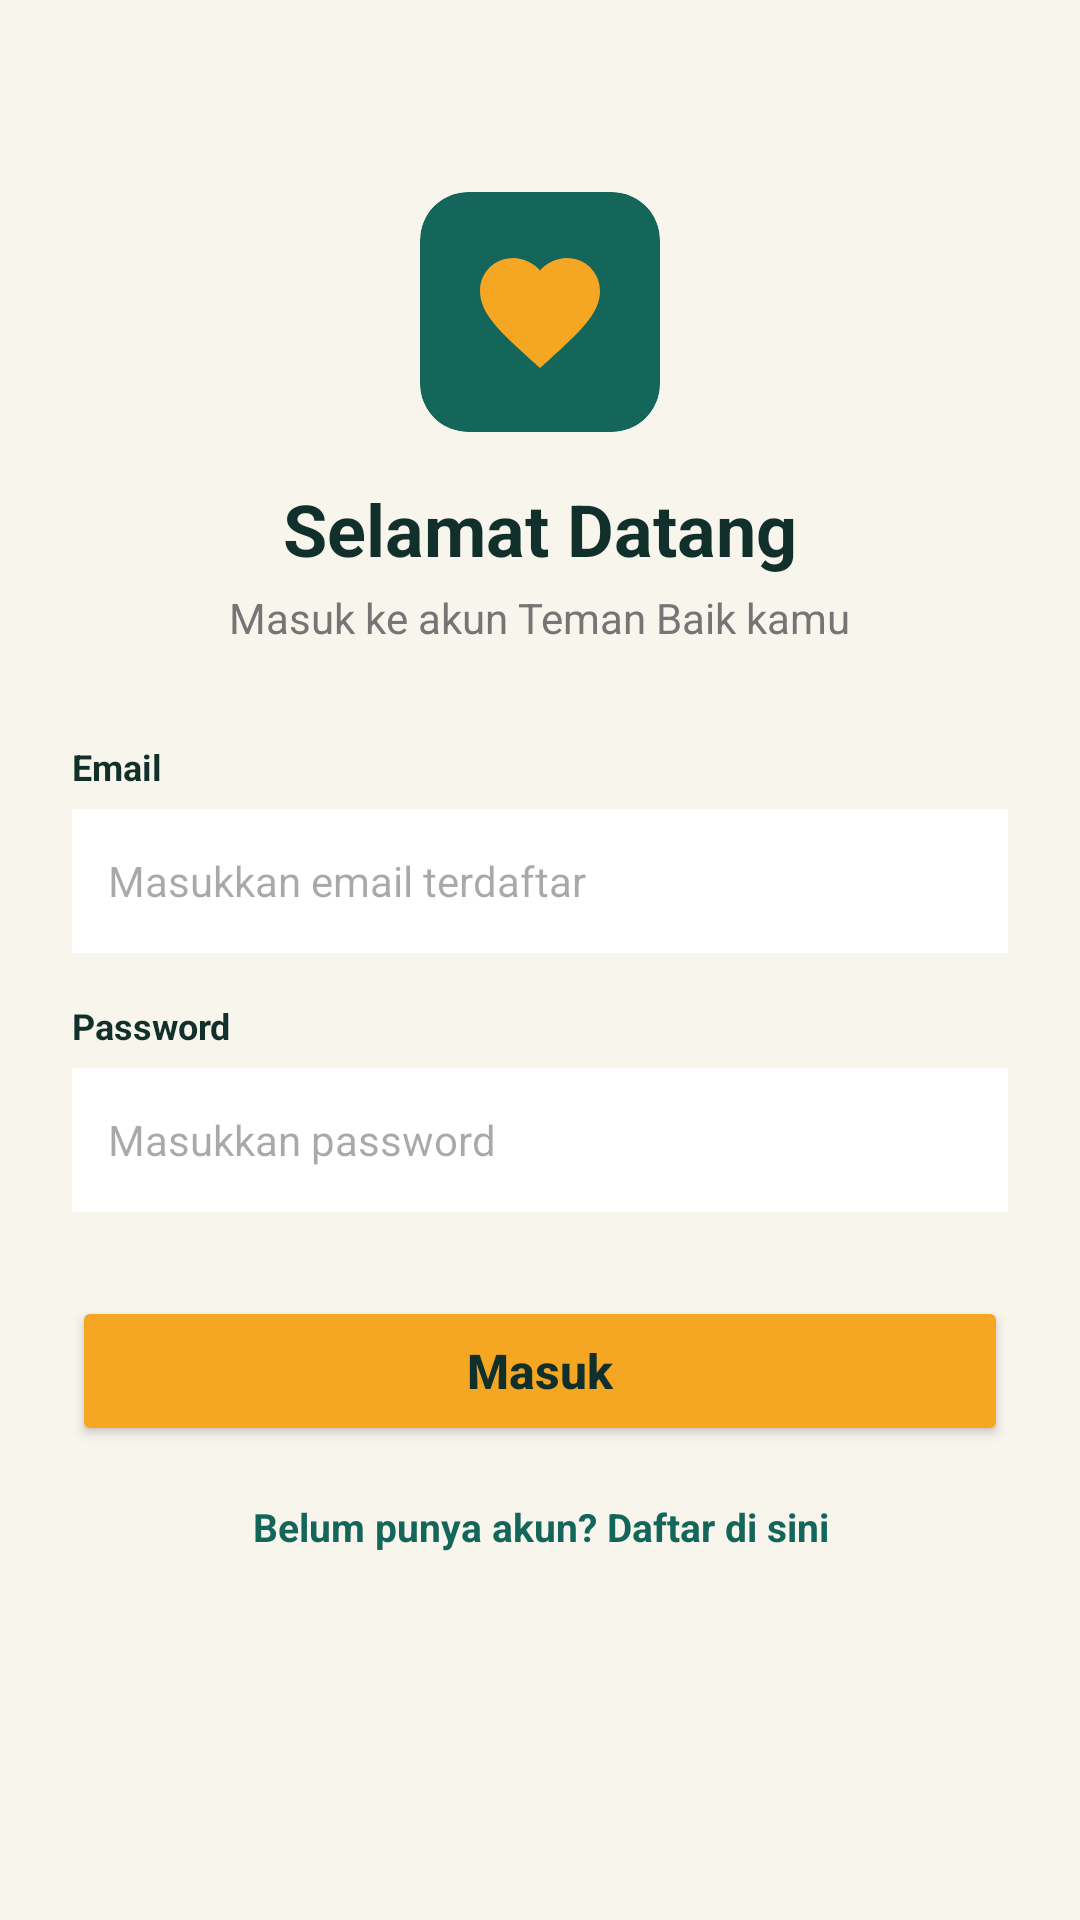

Where icons sit on this 1080px×1920px app screen, as (x1, y1, x2, y2):
heart: (480, 258, 600, 368)
